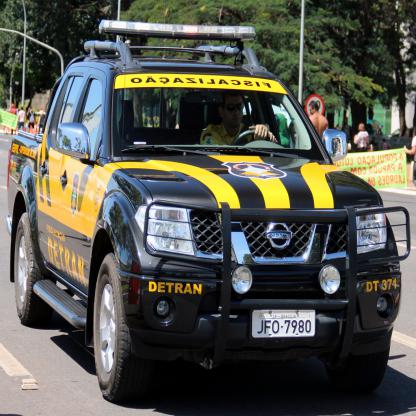Truck: (5, 0, 411, 403)
